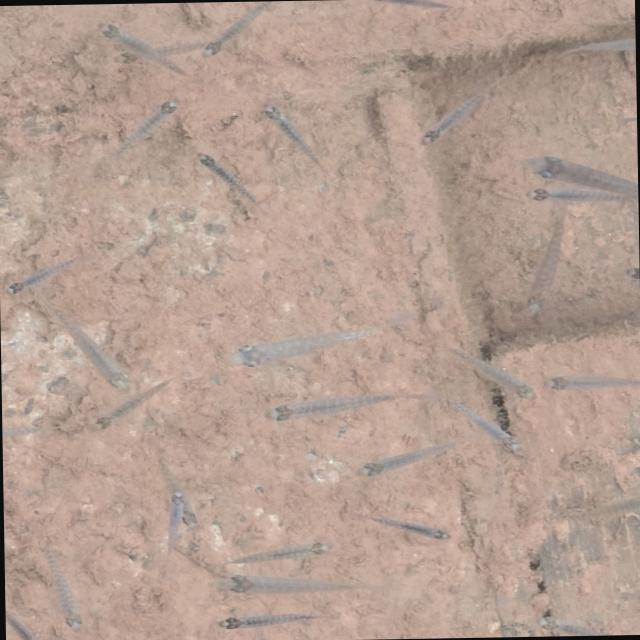Sivrisinek Baligi: (223, 315, 413, 371), (418, 75, 504, 149), (94, 15, 188, 77), (108, 86, 184, 158), (256, 394, 413, 428), (36, 540, 88, 630), (351, 443, 456, 481), (198, 146, 255, 210), (222, 570, 356, 592), (364, 512, 456, 540), (154, 493, 188, 560)
